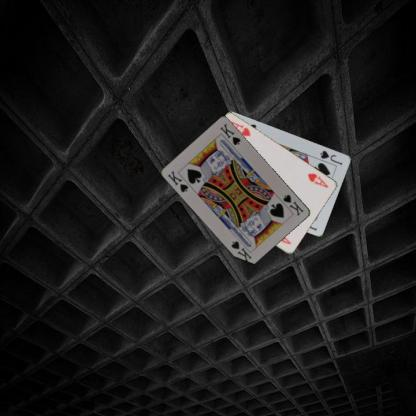Ah: (305, 170, 329, 189)
Js: (318, 148, 344, 166)
Ks: (165, 168, 190, 194), (281, 192, 305, 217)
